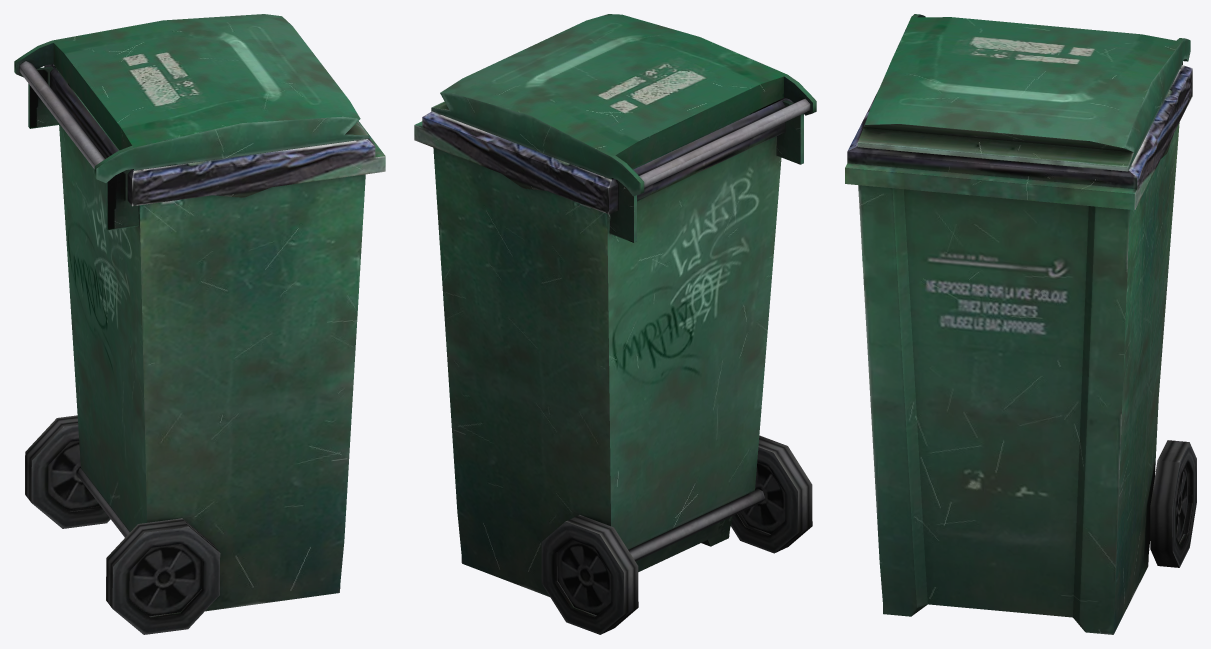
Rendered from poubelle_5.glb.
The picture shows the model from 3 angles, left to right: view 1: azimuth 30°, elevation 25°; view 2: azimuth 150°, elevation 25°; view 3: azimuth 270°, elevation 25°; orthographic projection. The views are drawn at different scales.
Parts seen in each view (by area): view 1: SM_TrashBin_Material #2_0; view 2: SM_TrashBin_Material #2_0; view 3: SM_TrashBin_Material #2_0.
Part boxes in pixels (left/top/right/bottom): SM_TrashBin_Material #2_0: left=14, top=14, right=385, bottom=634; SM_TrashBin_Material #2_0: left=414, top=14, right=816, bottom=634; SM_TrashBin_Material #2_0: left=845, top=14, right=1196, bottom=634.
Size of the model in its own units: 0.7162 by 1.11 by 0.6904.
Materials: 1 (1 with a texture image).
